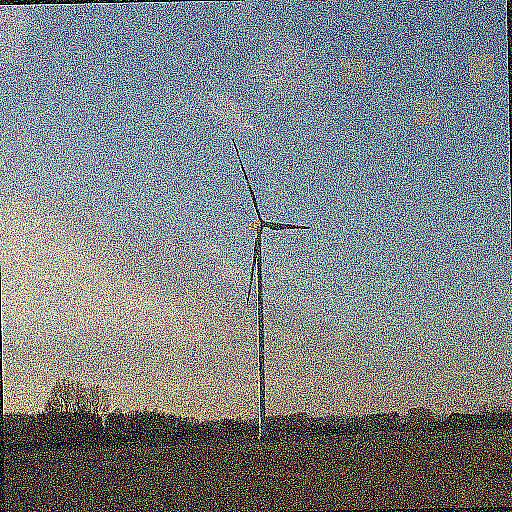wind turbine: (230, 140, 312, 438)
